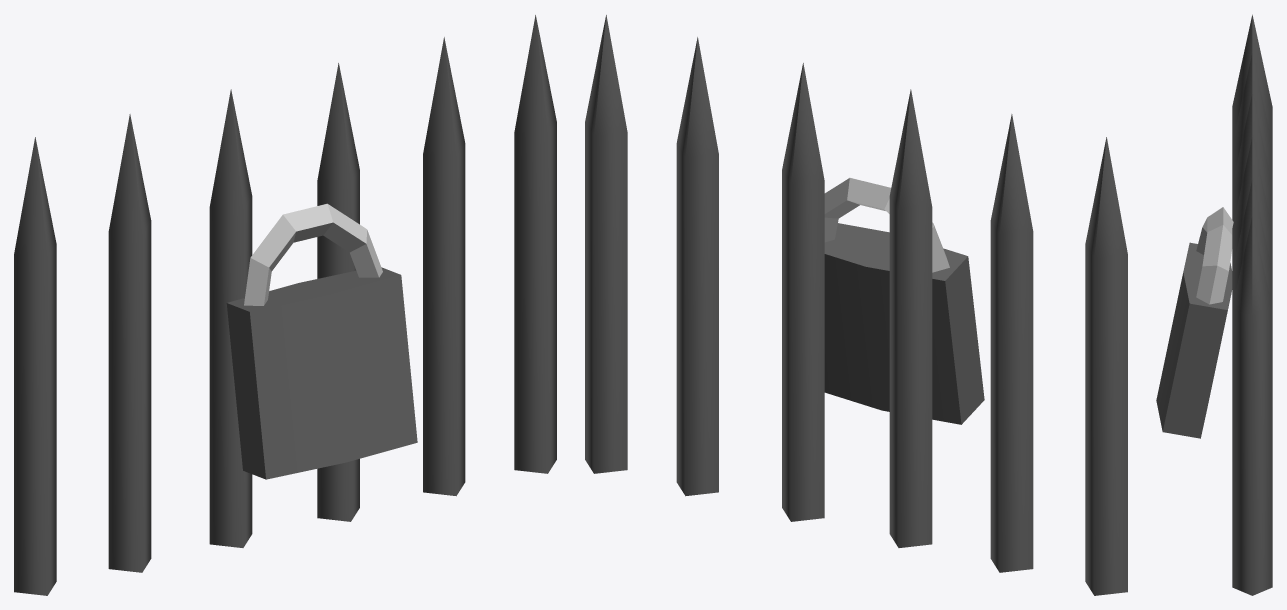
File: Gate.fbx
The picture shows the model from 3 angles, left to right: view 1: azimuth 30°, elevation 25°; view 2: azimuth 150°, elevation 25°; view 3: azimuth 270°, elevation 25°; orthographic projection. The views are drawn at different scales.
Parts seen in each view (by area): view 1: Gate; view 2: Gate; view 3: Gate.
Boxes of the visible parts, <box> form: Gate: <box>14,15,556,595</box>; Gate: <box>585,15,1127,595</box>; Gate: <box>1156,14,1272,595</box>.
Bounding box in the file's own units: 3.58 × 2.84 × 0.8059.
Materials: 1 (1 with a texture image).
